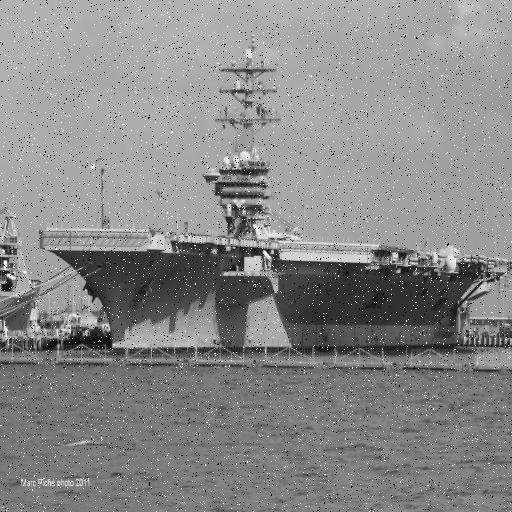Portanaves: (36, 30, 512, 359)
